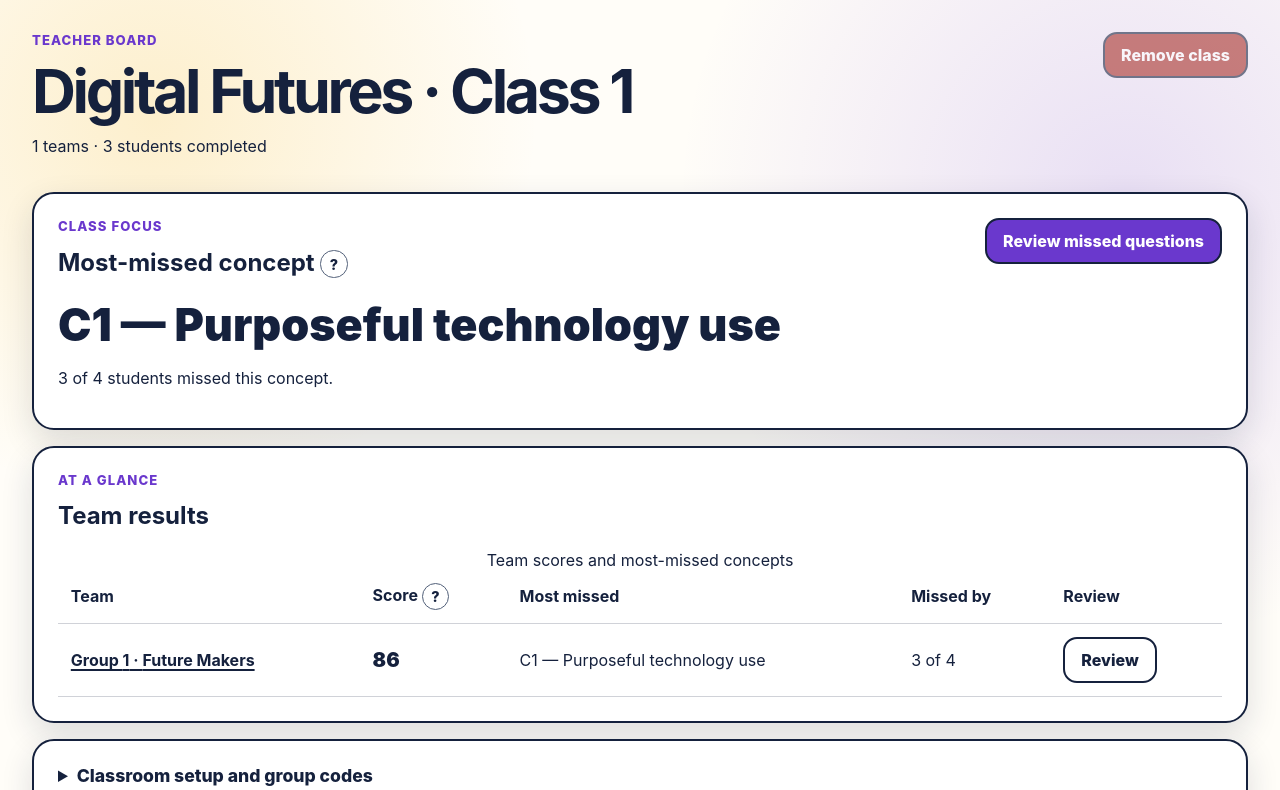
Test: simplified teacher board › keeps the board usable when missed-question details cannot be loaded
The width and height of the screenshot is (1280, 790).
Click the button "Review" at (1110, 660), box [1063,637,1157,683]
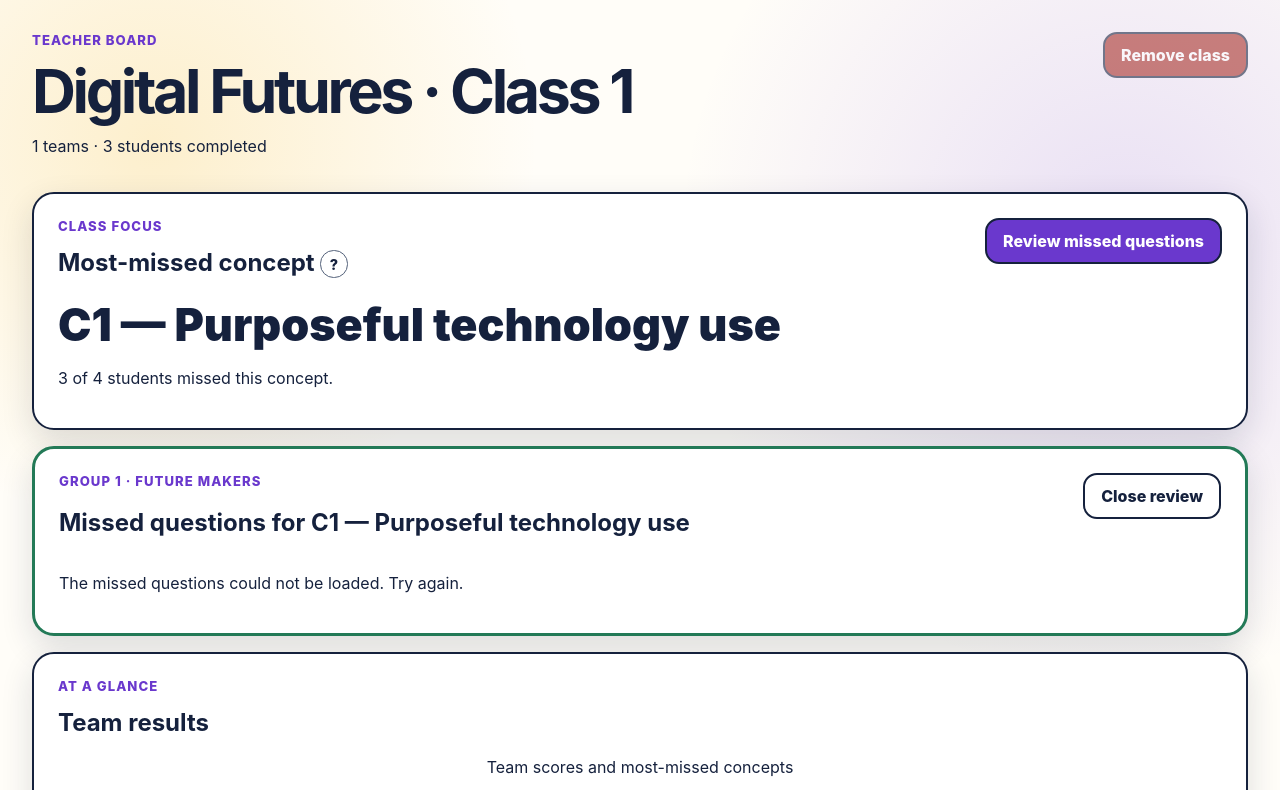
Check: the heading "Team results" is shown, box [58,708,209,737]
Check: the message shows "missed questions could not be loaded", box [59,573,464,593]
